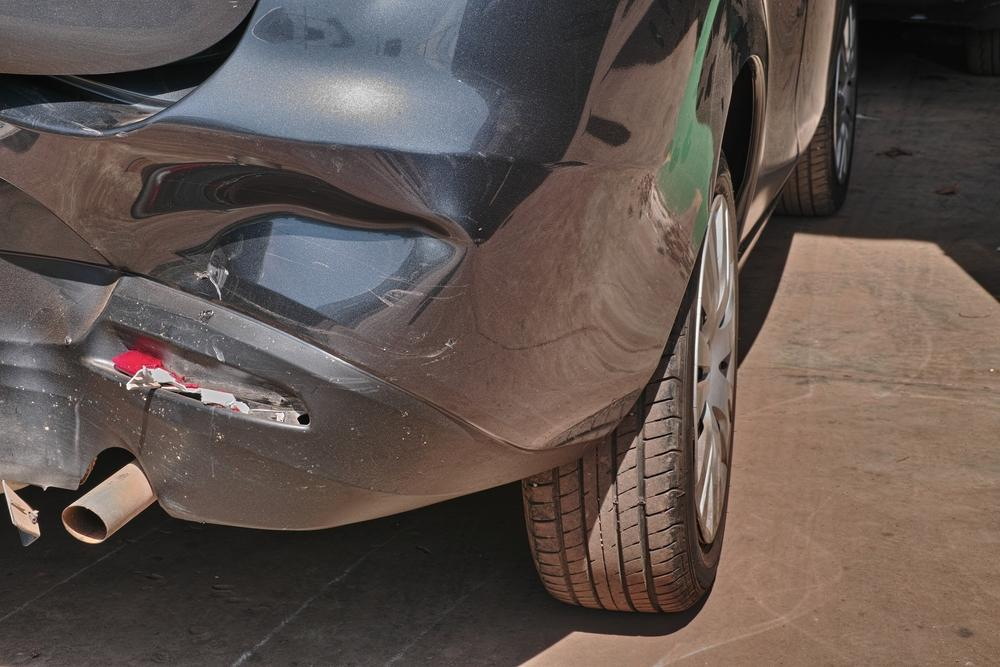dent: (131, 156, 470, 293)
